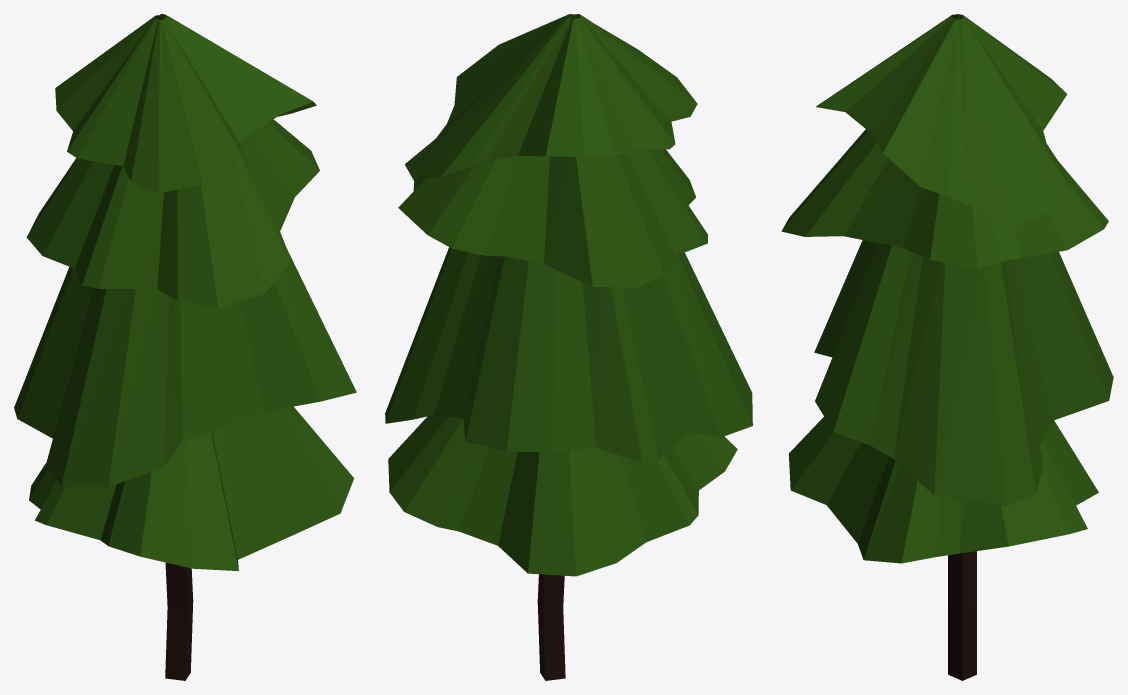
File: SM_tree_conifer_02.FBX
The picture shows the model from 3 angles, left to right: view 1: azimuth 30°, elevation 25°; view 2: azimuth 150°, elevation 25°; view 3: azimuth 270°, elevation 25°; orthographic projection. The views are drawn at different scales.
Parts seen in each view (by area): view 1: Object044; view 2: Object044; view 3: Object044.
Part boxes in pixels (x1=…): Object044: x1=14, y1=14, x2=356, y2=680; Object044: x1=385, y1=14, x2=752, y2=680; Object044: x1=781, y1=14, x2=1113, y2=680.
Bounding box in the file's own units: 419 × 857 × 398.
